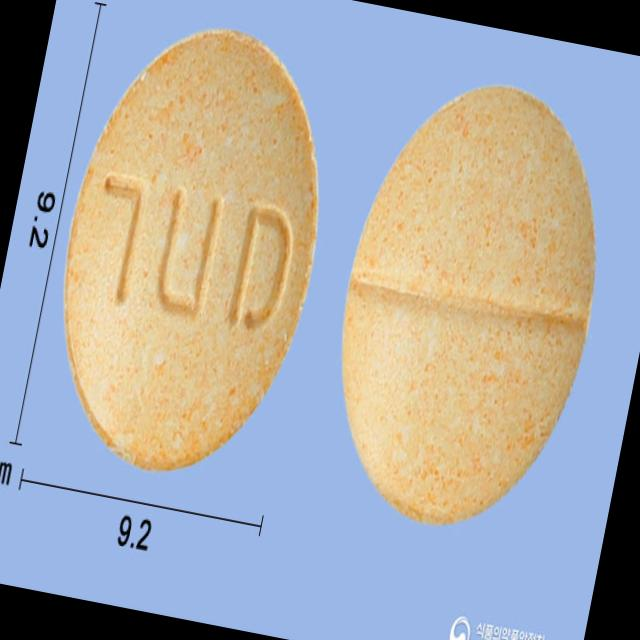Doxymedi: (28, 6, 356, 497)
